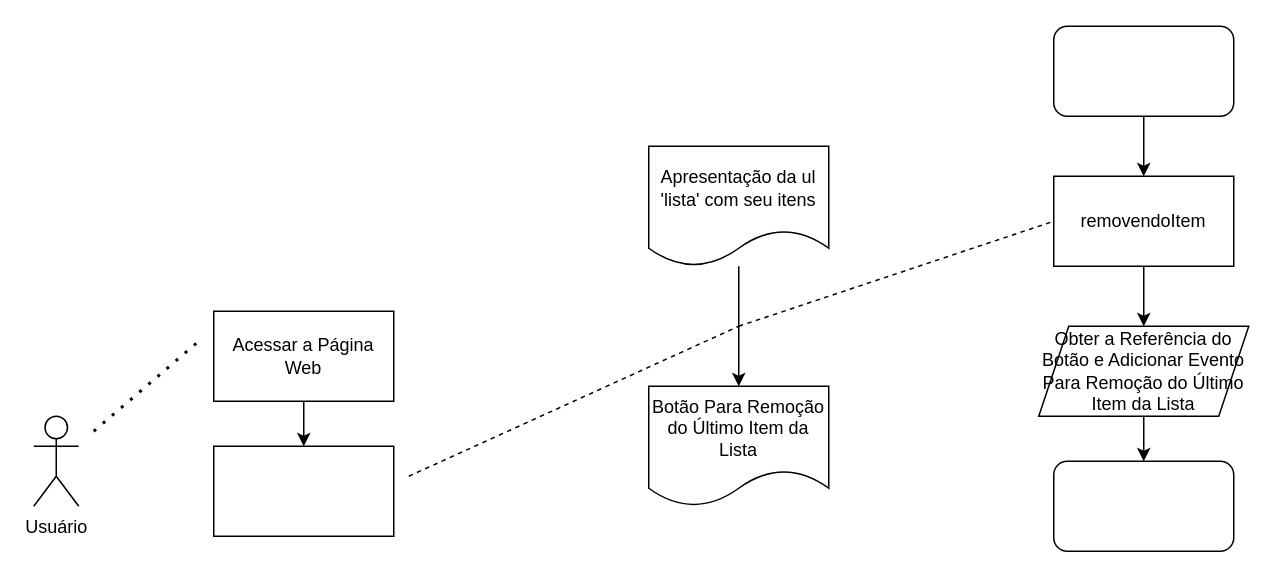
The diagram is 1275 pixels wide and 578 high, and some of its shapes have lost their labels. Each missing label, with the centre of its shape:
Clicar No Botão Para Realizar Remoção do Item da Lista: the point at 303,490
Fim: the point at 1143,505
Início: the point at 1143,70
